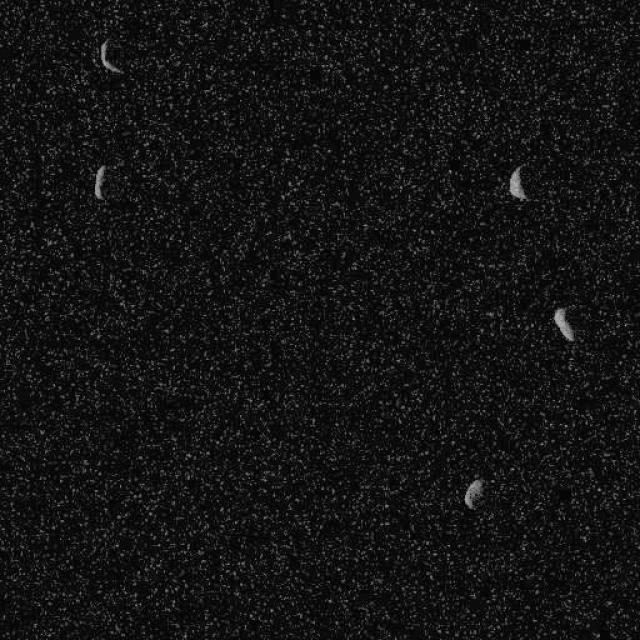D2: (98, 36, 124, 74), (551, 306, 575, 342), (508, 162, 528, 200), (463, 478, 485, 510), (92, 164, 108, 201)
